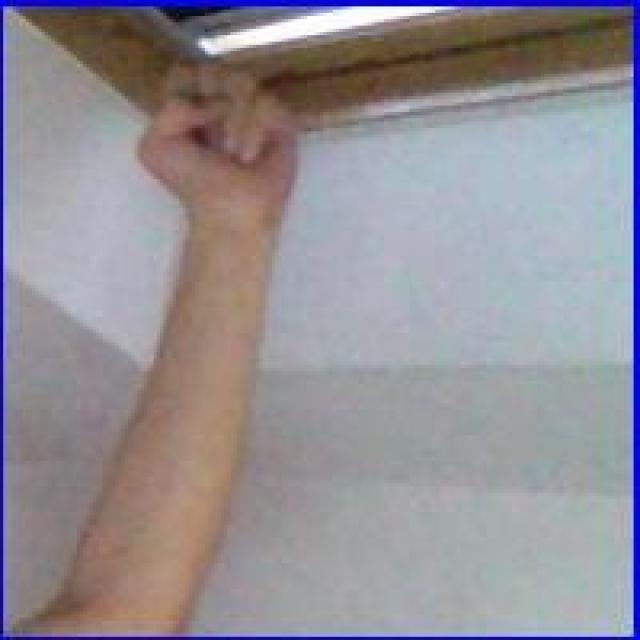S: (136, 56, 309, 242)
